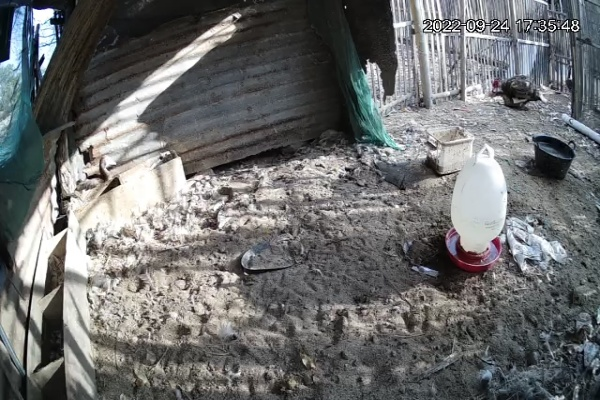Kawin: (483, 66, 548, 123)
